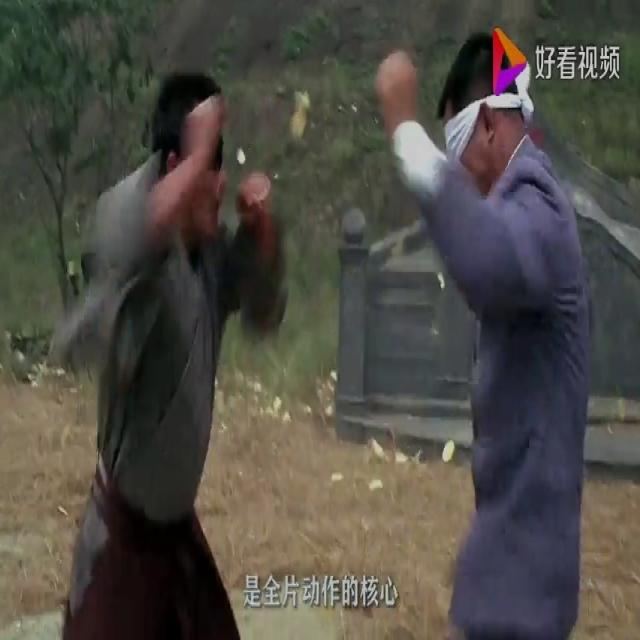fight: (11, 19, 637, 638)
